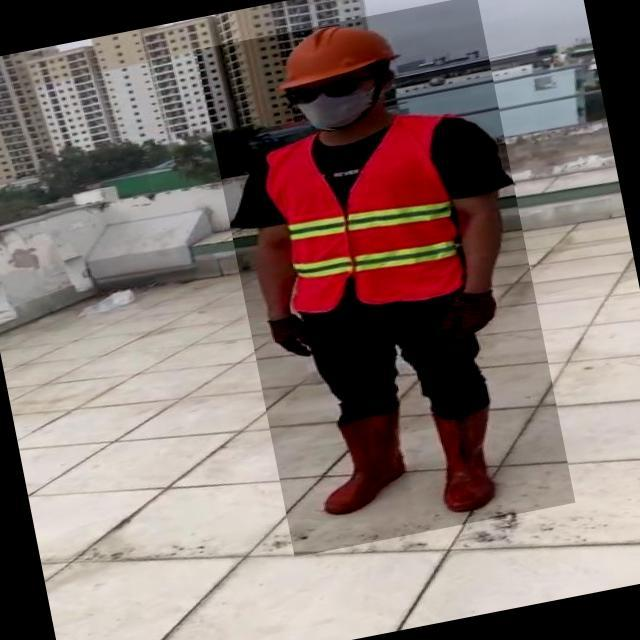Gloves: (435, 291, 504, 344), (266, 315, 317, 366)
Helmet: (264, 12, 406, 96)
Human: (196, 0, 576, 558)
Safety Boot: (311, 412, 415, 519), (428, 405, 505, 517)
Safety Vest: (264, 115, 471, 327)
